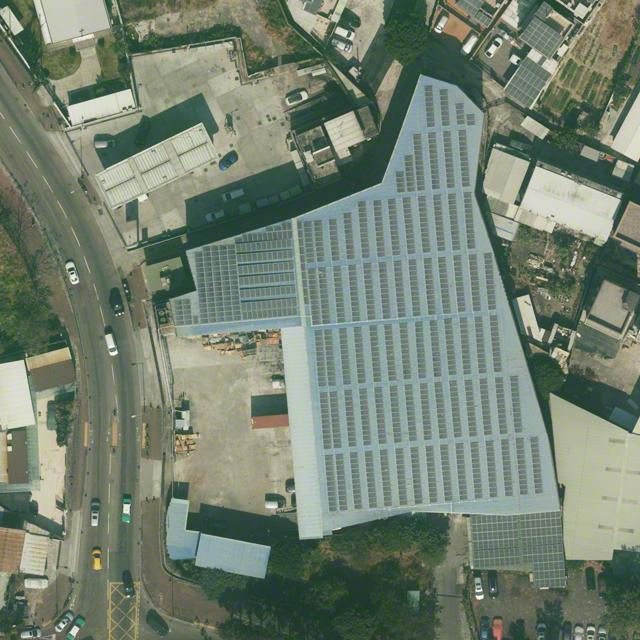panel: (358, 192, 514, 507), (304, 213, 377, 513), (471, 510, 567, 588), (236, 240, 297, 320), (196, 244, 242, 324), (512, 375, 542, 496), (413, 130, 470, 190), (504, 56, 552, 108), (519, 17, 565, 59), (235, 219, 292, 243), (297, 222, 311, 305), (395, 155, 416, 194), (174, 298, 198, 326), (425, 85, 435, 127), (441, 89, 450, 125), (475, 10, 493, 27), (457, 104, 465, 125), (468, 113, 475, 125)
